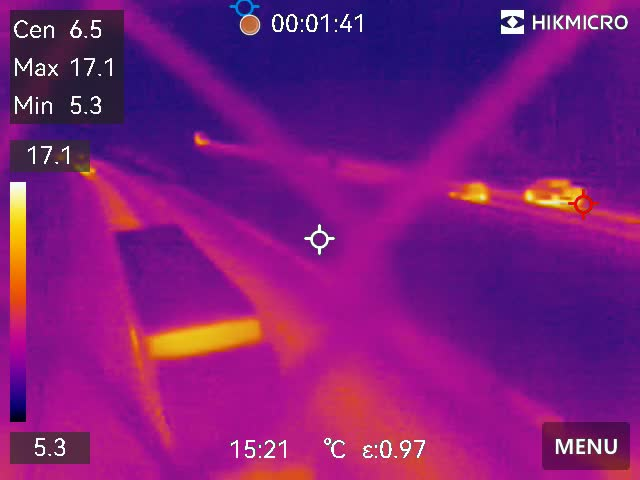heavyTruck: (108, 214, 313, 480)
lightTruck: (518, 170, 586, 209)
